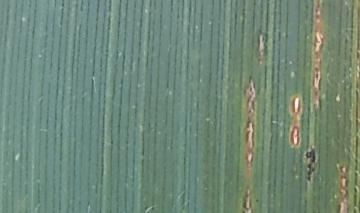tarspot: (304, 144, 319, 183), (251, 194, 265, 206)
